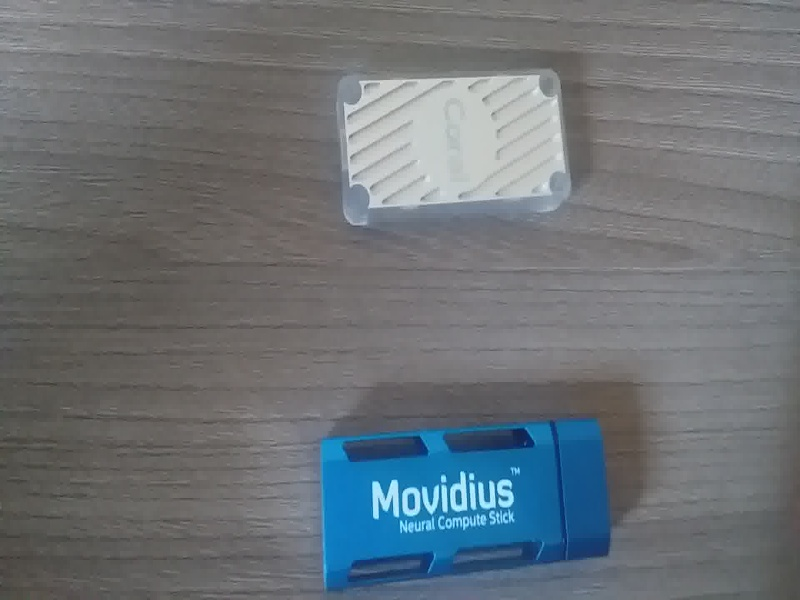coral: (328, 63, 581, 236)
movidius: (310, 410, 631, 600)
